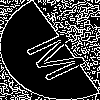M: (25, 25, 100, 84)
